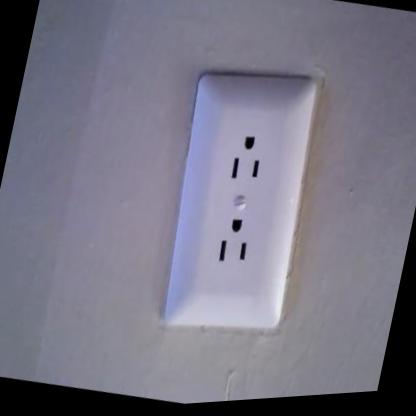OUTLET: (148, 61, 330, 343)
